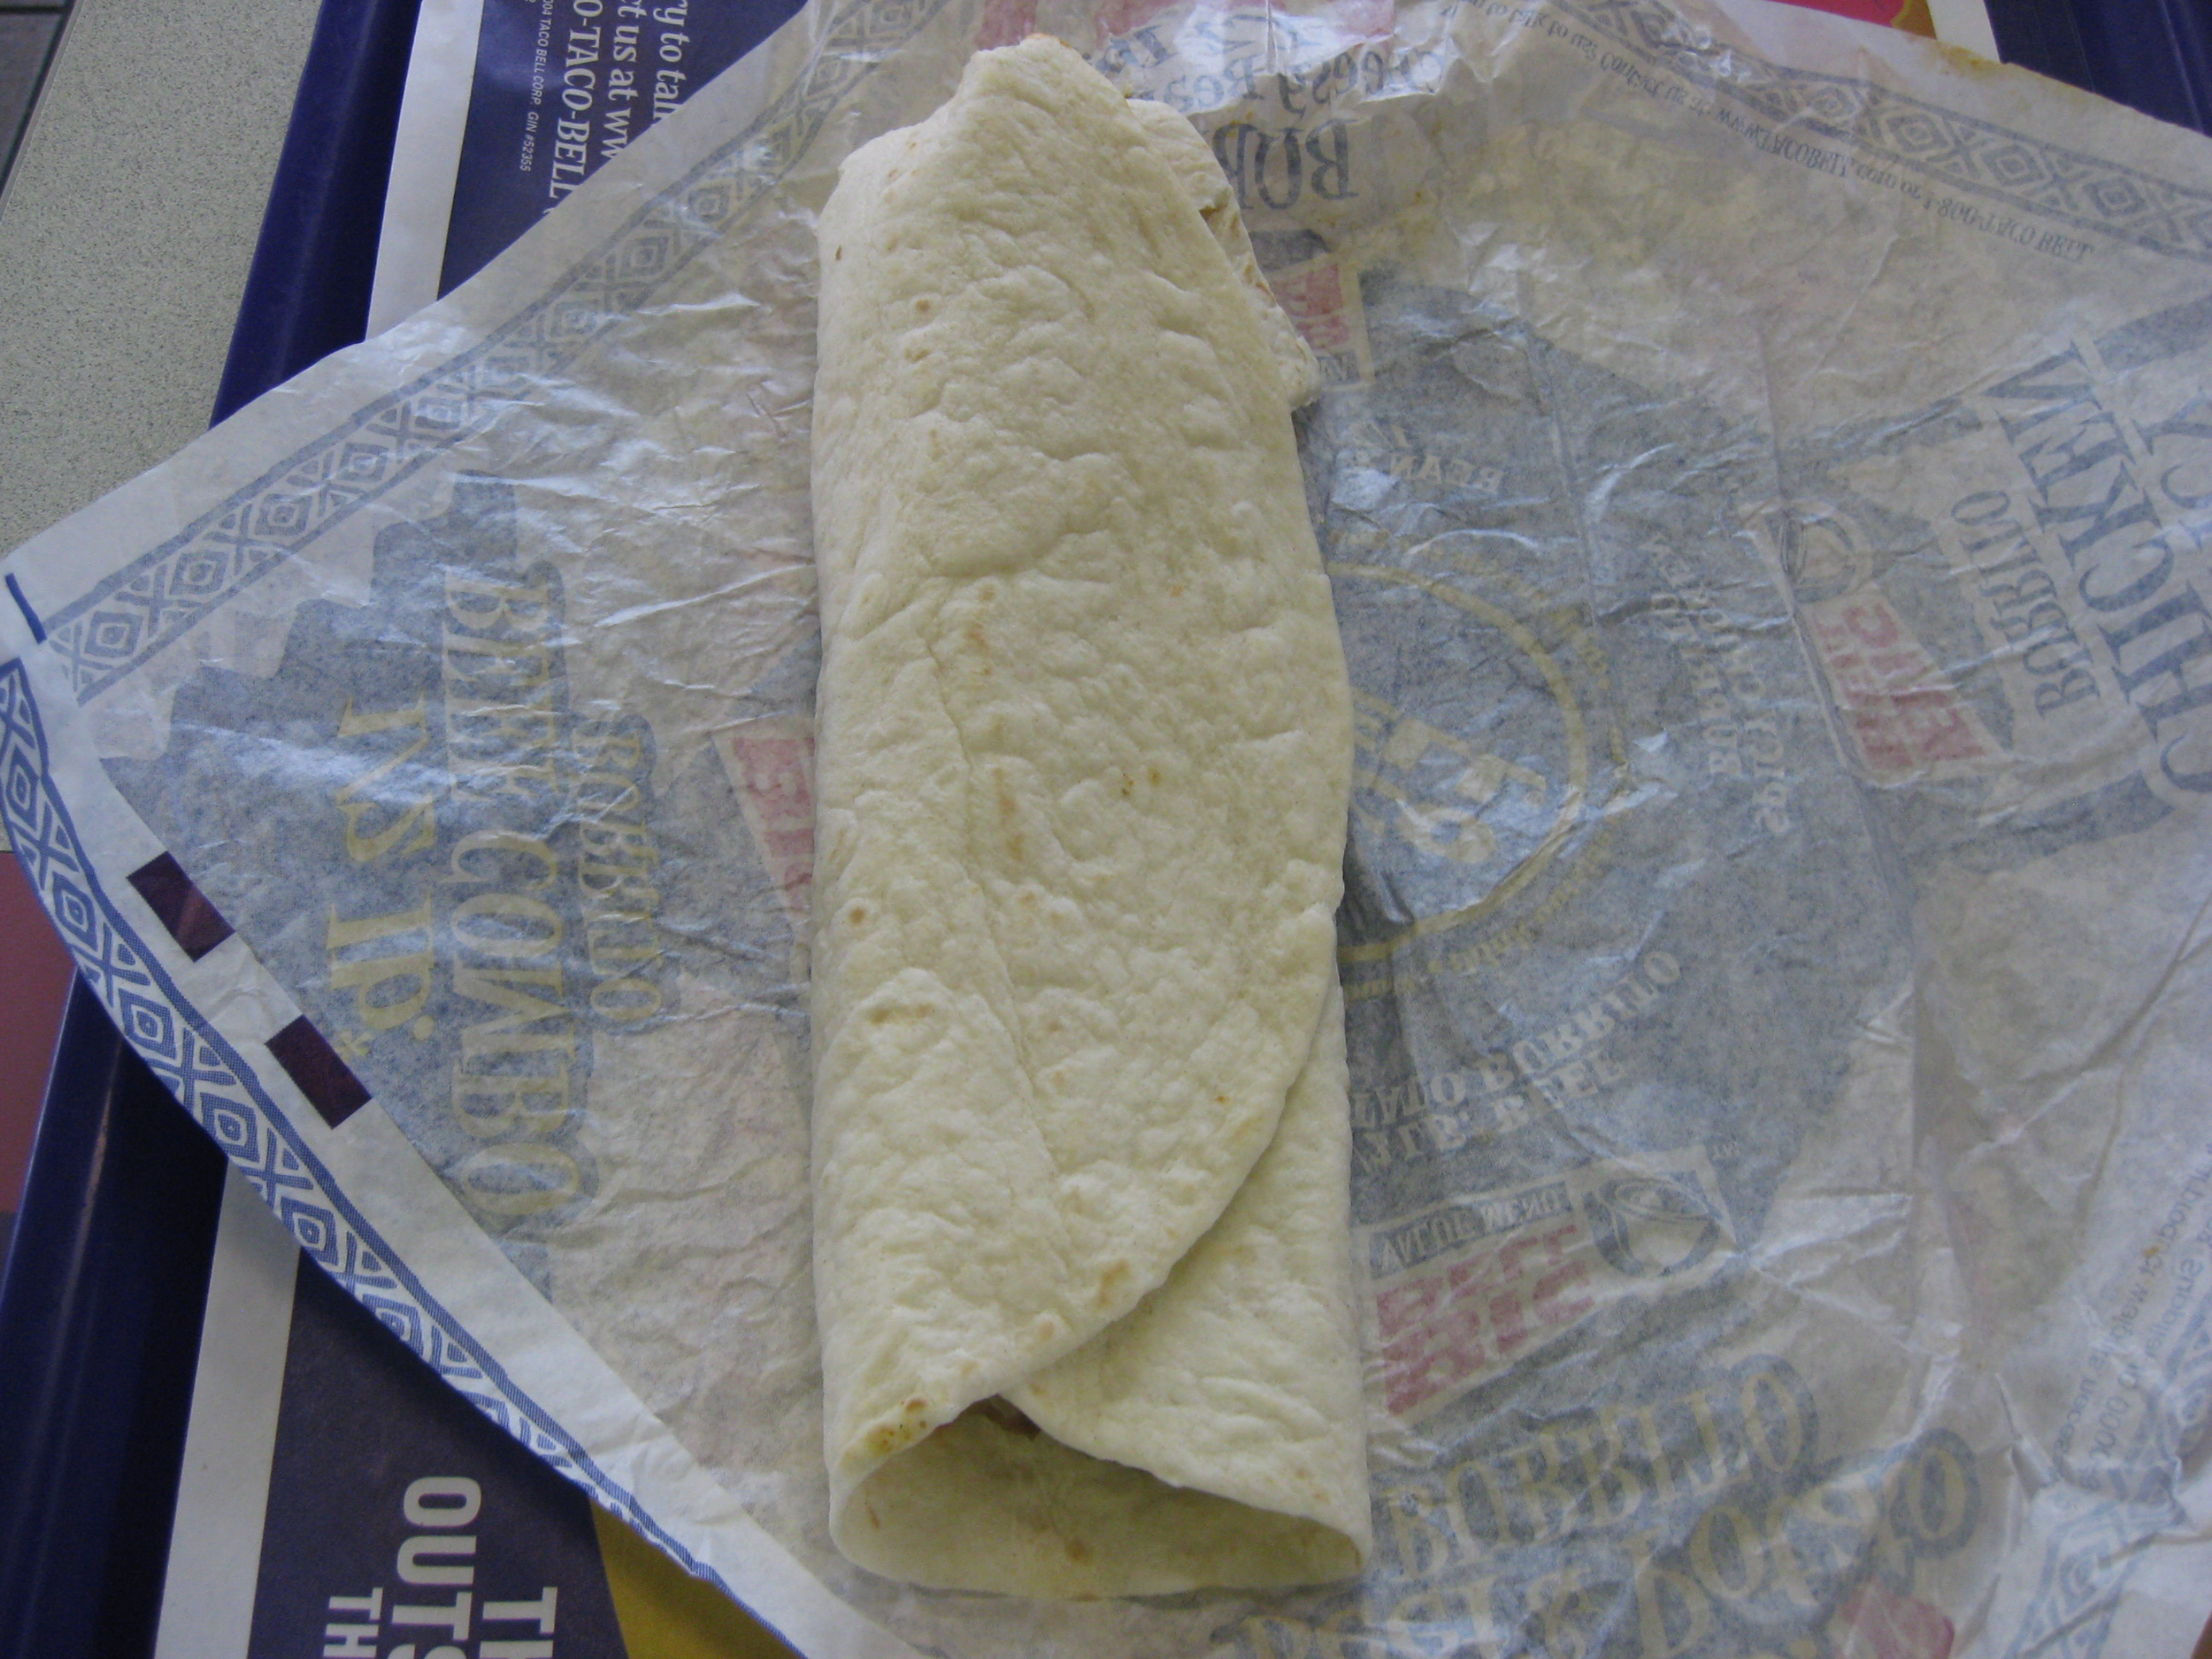burrito: (763, 46, 1458, 1602)
